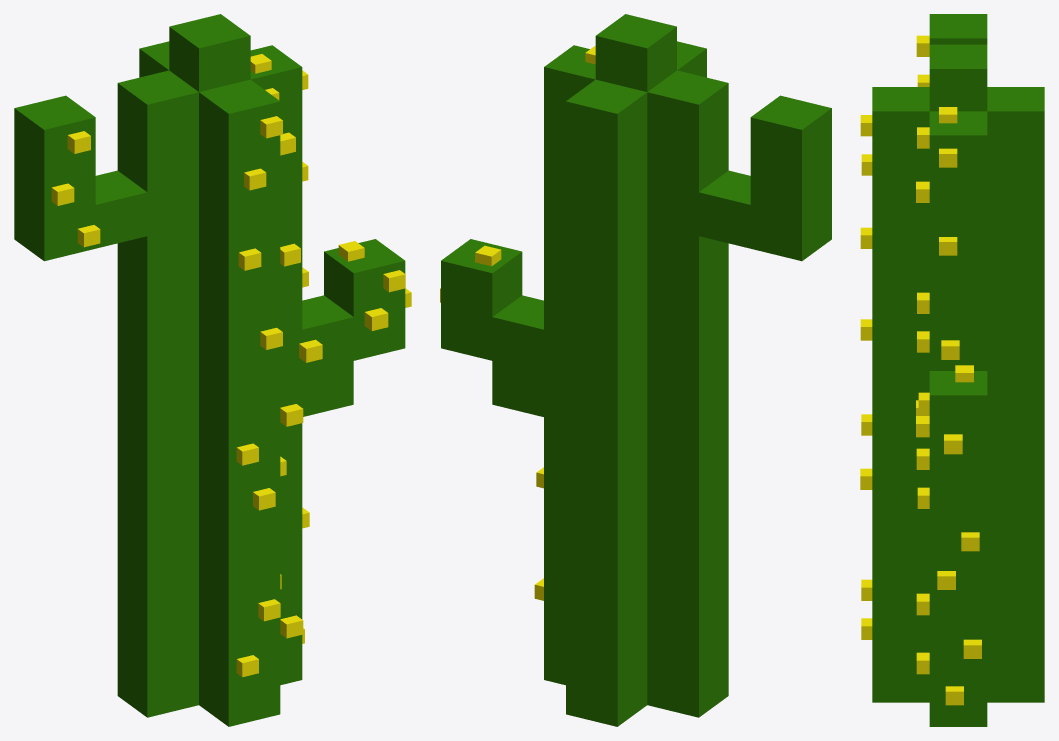
File: cactus_3.fbx
3 renders of one model, left to right at view 1: azimuth 30°, elevation 25°; view 2: azimuth 150°, elevation 25°; view 3: azimuth 270°, elevation 25°, orthographic. The views are drawn at different scales.
Visible parts, largest first — view 1: Torus.001; view 2: Torus.001; view 3: Torus.001.
Part boxes in pixels (x1=…): Torus.001: x1=14, y1=14, x2=411, y2=726; Torus.001: x1=440, y1=14, x2=831, y2=726; Torus.001: x1=860, y1=14, x2=1044, y2=726.
Size of the model in its own units: 418 by 700 by 185.
